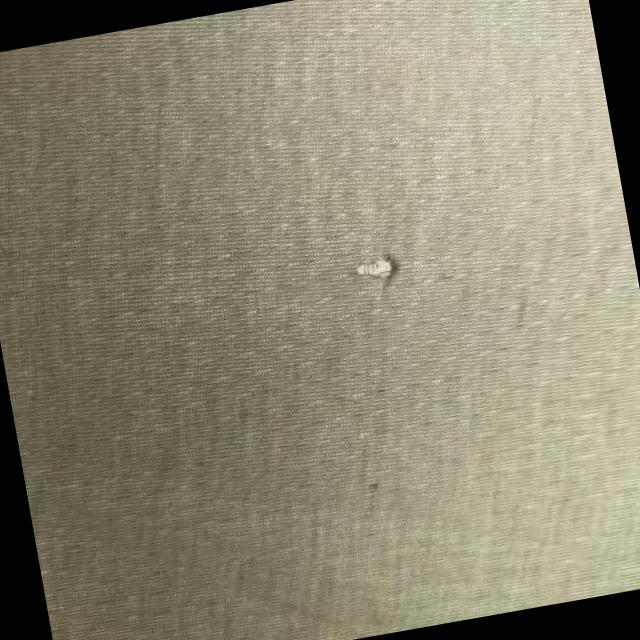hole: (348, 250, 400, 286)
